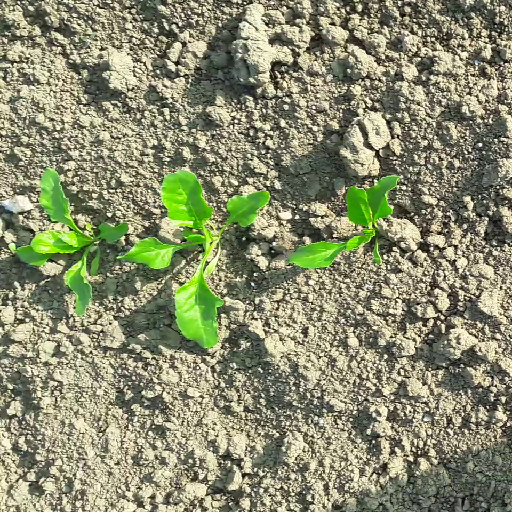sugarbeet: (113, 168, 273, 352), (5, 164, 134, 317), (286, 171, 403, 271)
